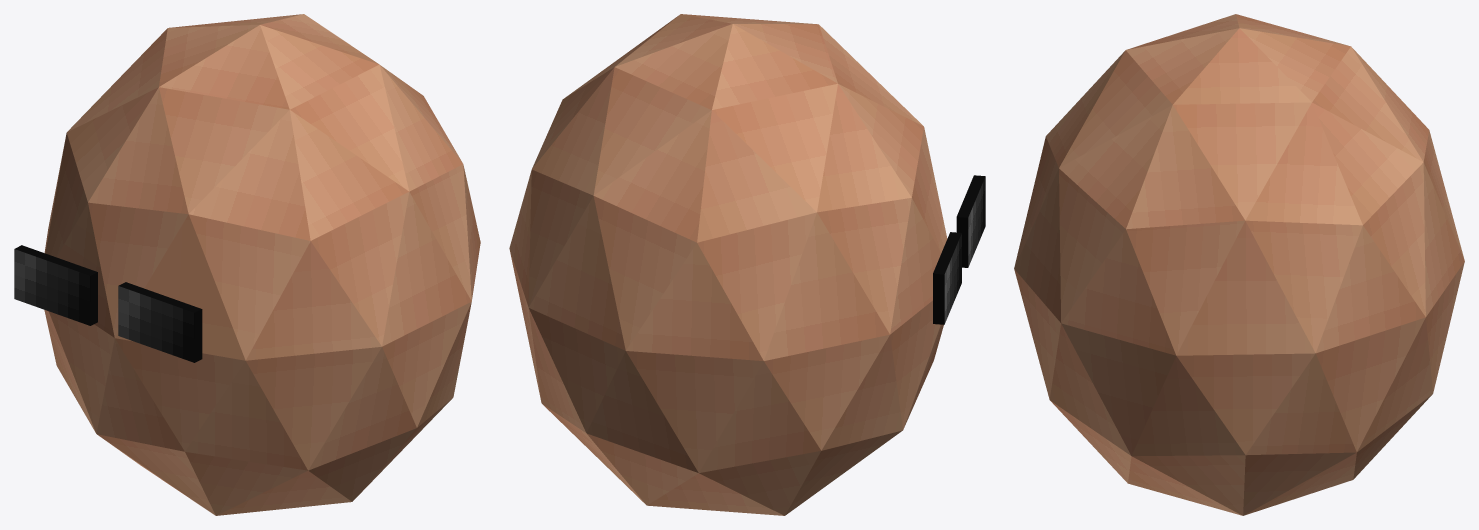
Rendered from boss.glb.
3 views of the same model, side by side, from view 1: azimuth 30°, elevation 25°; view 2: azimuth 150°, elevation 25°; view 3: azimuth 270°, elevation 25° (orthographic).
Parts seen in each view (by area): view 1: Iкосфера.001; view 2: Iкосфера.001; view 3: Iкосфера.001.
Part boxes in pixels (bbox=[...]): Iкосфера.001: bbox=[14, 14, 480, 515]; Iкосфера.001: bbox=[509, 14, 985, 515]; Iкосфера.001: bbox=[1014, 14, 1464, 515].
Size of the model in its own units: 0.7591 by 0.8356 by 0.7209.
Materials: 2 (2 with a texture image).
